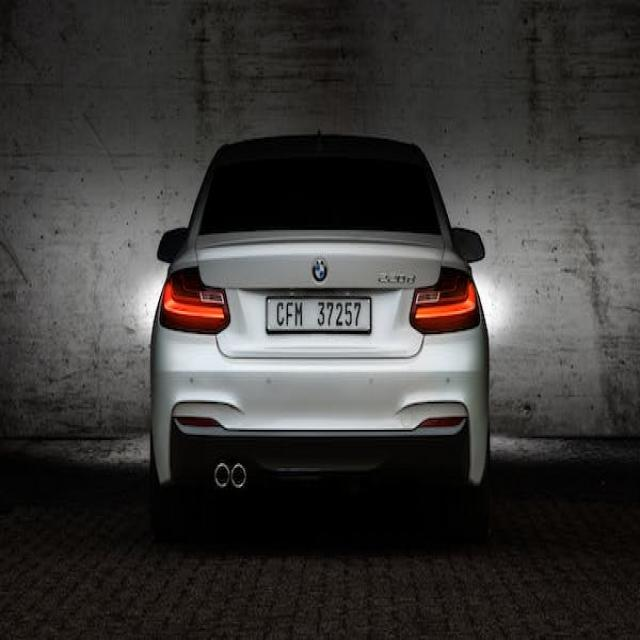yolov7-seg-car: (149, 128, 489, 545)
